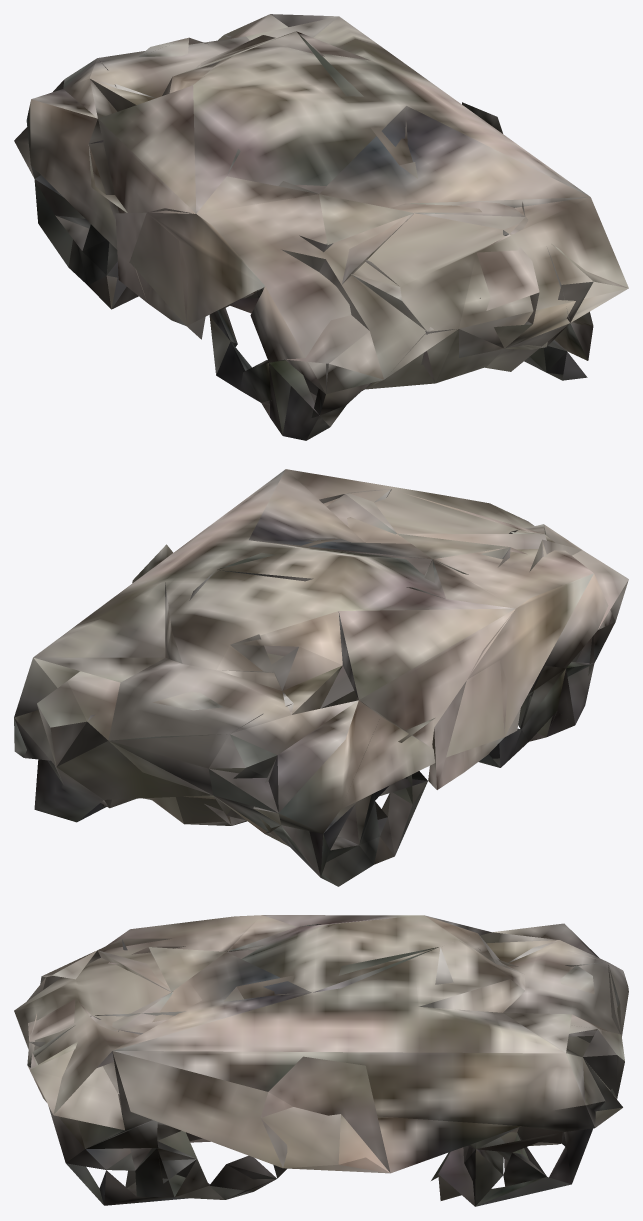
The model's file is deploy_cover_1497690636_lod0m.glb.
3 renders of one model, top to bottom at view 1: azimuth 30°, elevation 25°; view 2: azimuth 150°, elevation 25°; view 3: azimuth 270°, elevation 25°, orthographic. The views are drawn at different scales.
Size of the model in its own units: 1.46 by 1.02 by 2.62.
1 material, 1 textured.
